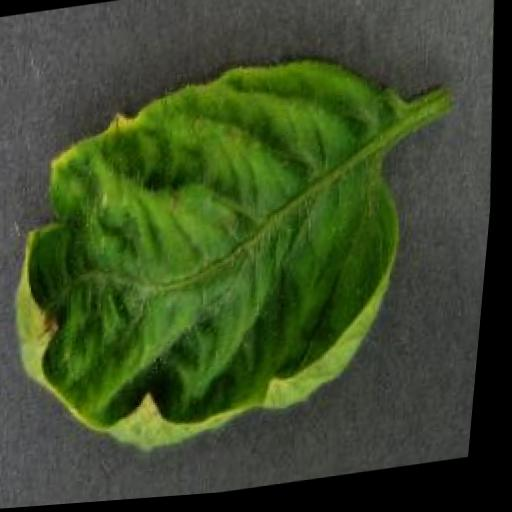Yellow Leaf Curl Virus: (0, 51, 432, 471)
